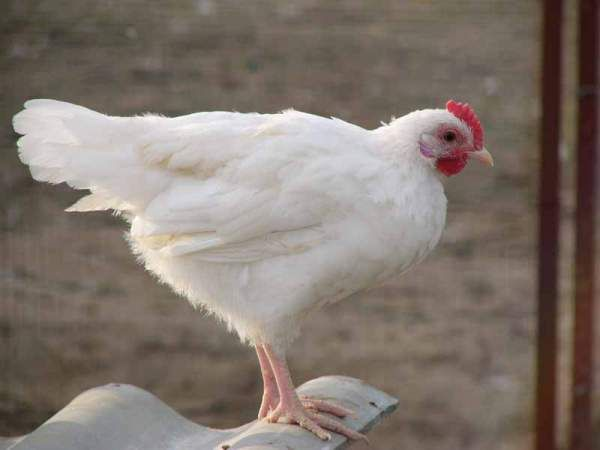Healthy: (4, 76, 495, 437)
